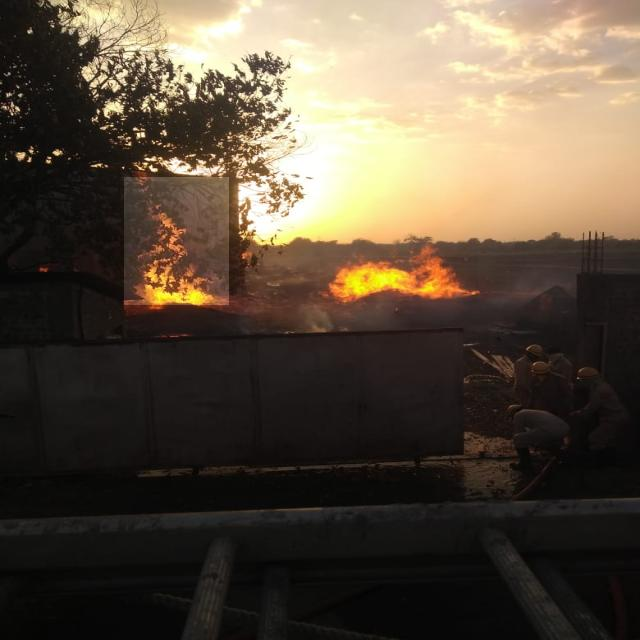Fire: (124, 177, 229, 305), (320, 257, 478, 303)
